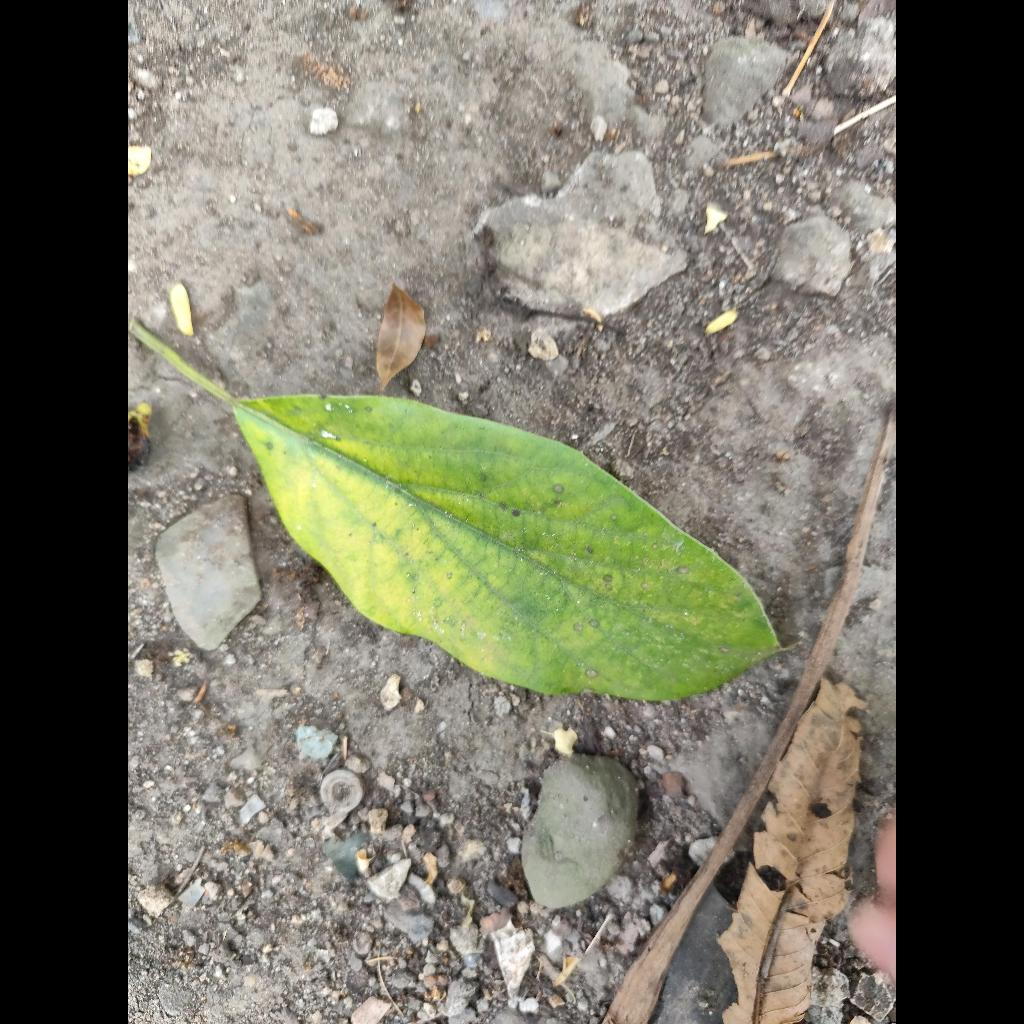nutrient_deficiency: (131, 325, 779, 700)
